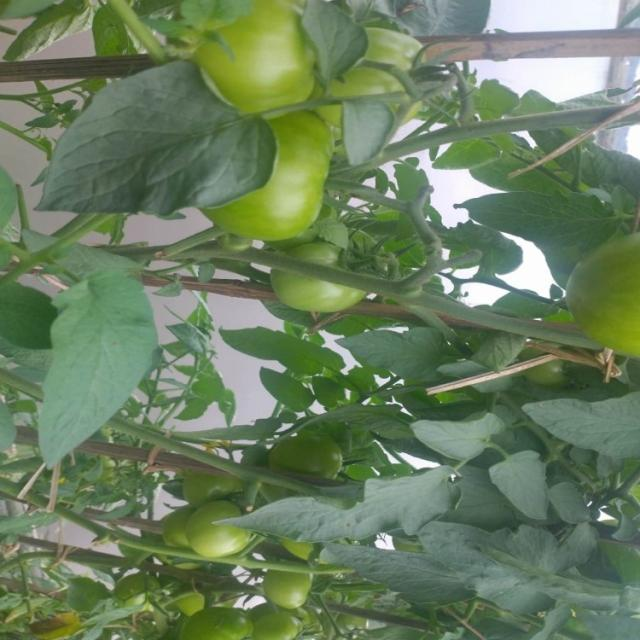tomato: (201, 1, 322, 114), (239, 112, 343, 241), (566, 232, 640, 352), (354, 31, 440, 120), (276, 244, 356, 321), (172, 504, 266, 558), (276, 430, 354, 490), (184, 607, 258, 640), (184, 469, 246, 500), (253, 600, 299, 640), (268, 565, 320, 600)
